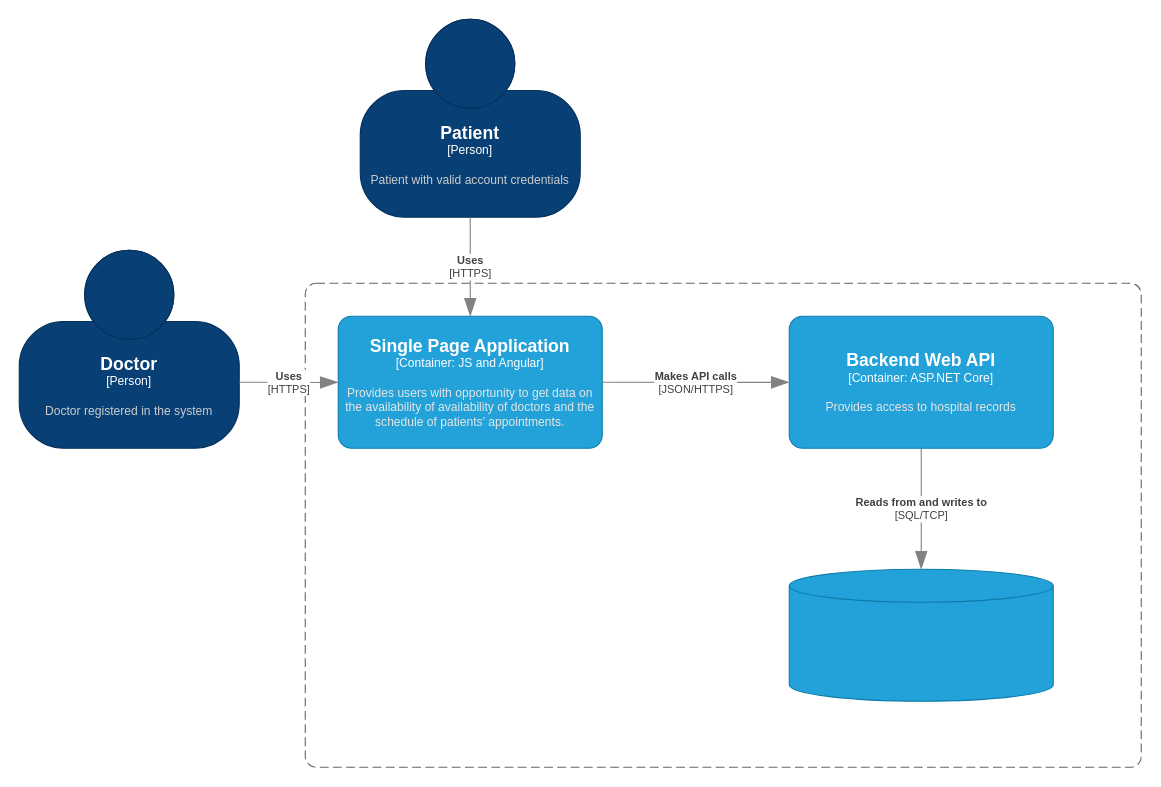
Some shapes in this 1161 by 787 pixel diagram are drawn without their labels. Each missing label, with the box of its shape:
Database [Container: MsSQL Server] Stores hospital records and patients data: (788, 568, 1053, 701)
Hospital registrar system [Container]: (304, 282, 1141, 767)
